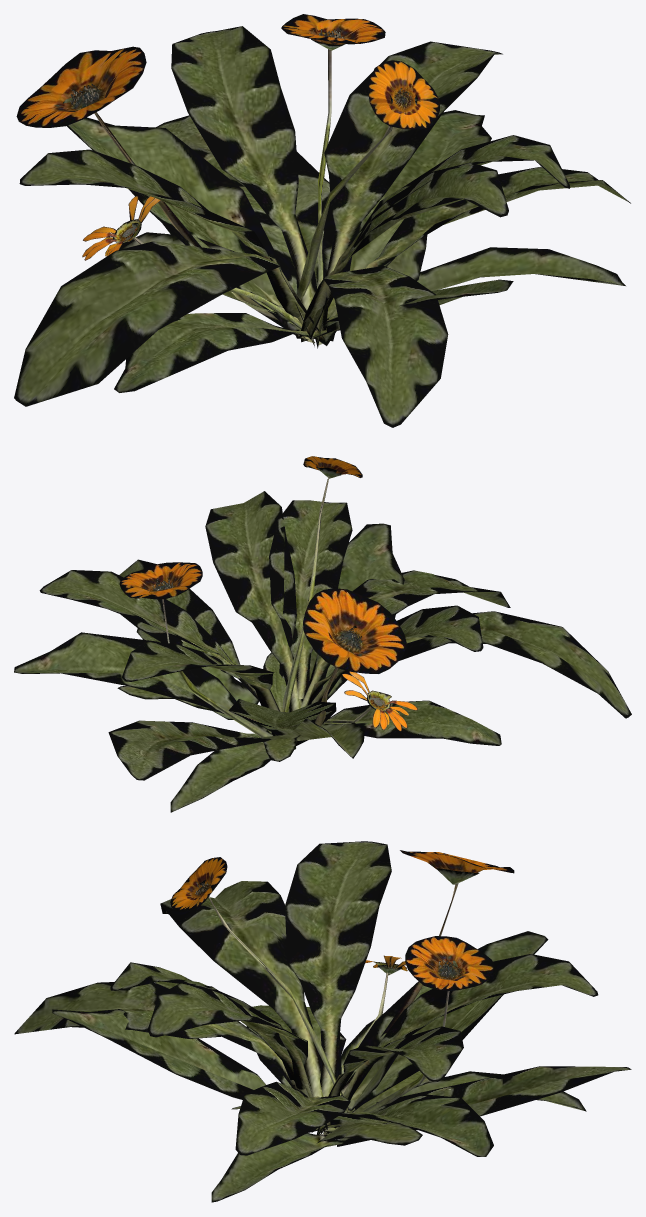
3 views of the same model, one above another, from view 1: azimuth 30°, elevation 25°; view 2: azimuth 150°, elevation 25°; view 3: azimuth 270°, elevation 25° (orthographic). The views are drawn at different scales.
Parts seen in each view (by area): view 1: flower_gazania_h_LOD0; view 2: flower_gazania_h_LOD0; view 3: flower_gazania_h_LOD0.
Part boxes in pixels (x1,y1,x2,y2): flower_gazania_h_LOD0: [14, 14, 630, 427]; flower_gazania_h_LOD0: [14, 456, 631, 812]; flower_gazania_h_LOD0: [14, 841, 631, 1202].
Bounding box in the file's own units: 0.3377 × 0.1653 × 0.3266.
1 material, 1 textured.
